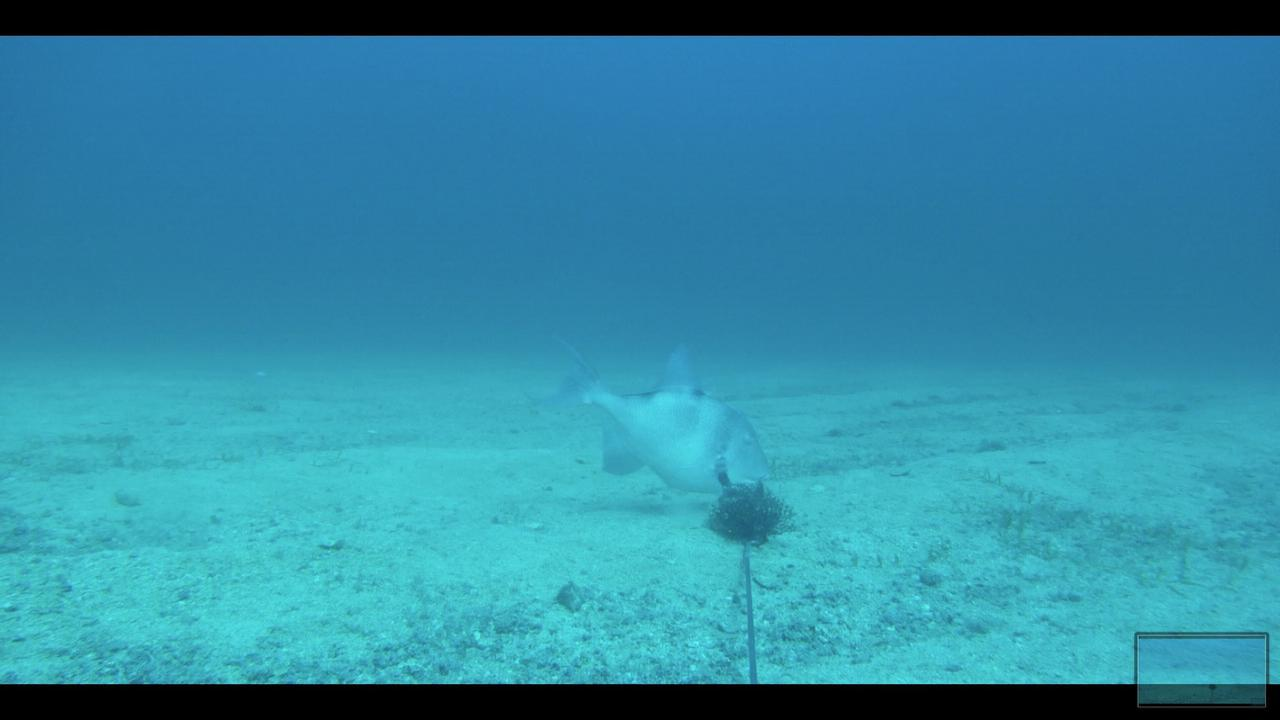balistes: (530, 328, 777, 496)
